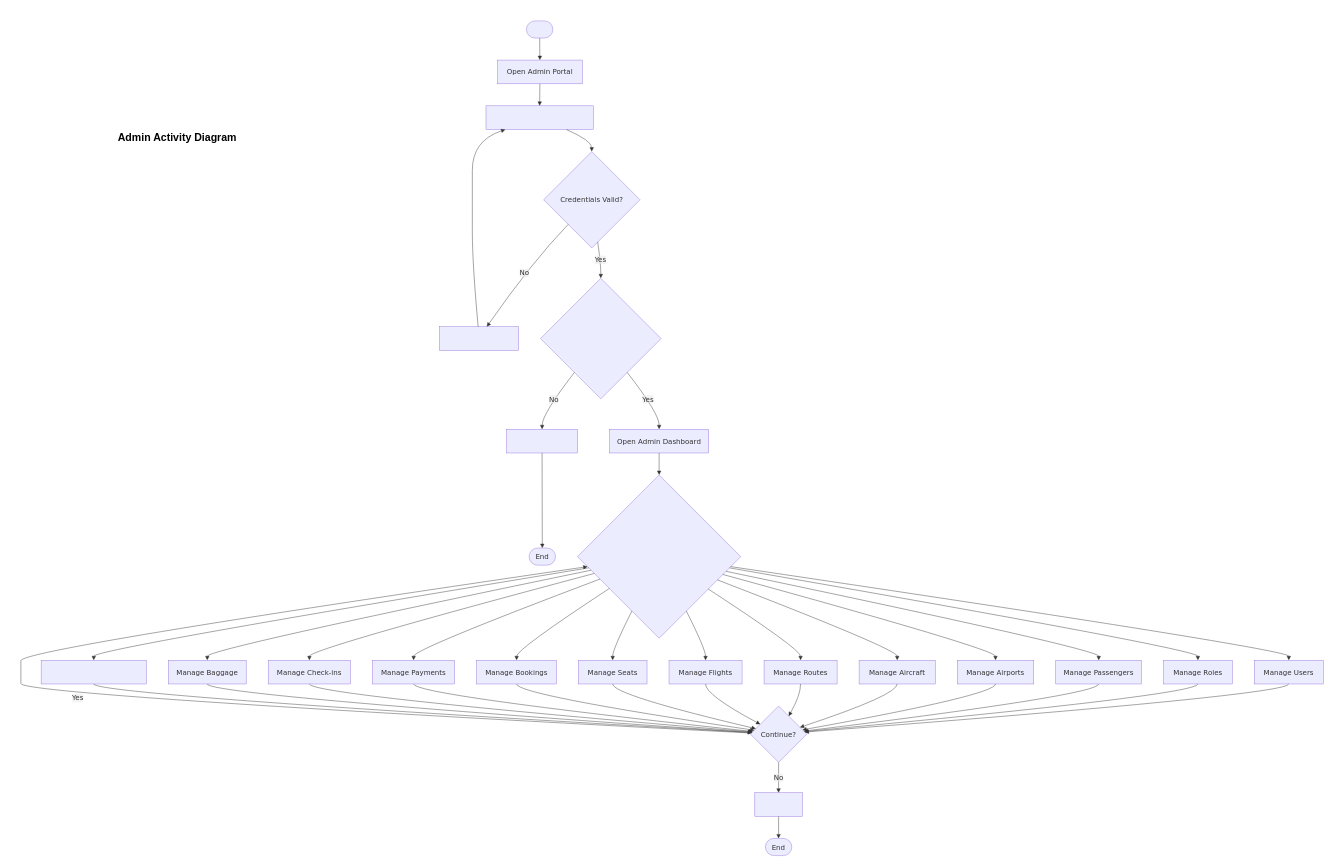
This 1331x863 diagram has some shape labels left out. Here are the shapes that lost their labels. From the top down, the centre of each, then its label:
(539,29): Start
(539,117): Enter Email and Password
(479,338): Show Login Error
(600,338): Has Admin Permission?
(542,441): Access Denied
(659,556): Choose Management Operation
(93,672): Manage Loyalty Accounts
(778,804): Logout
